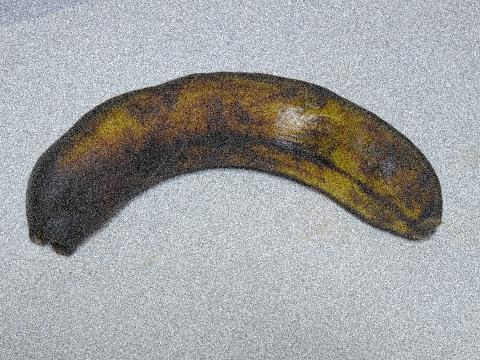overripe: (14, 53, 455, 273)
